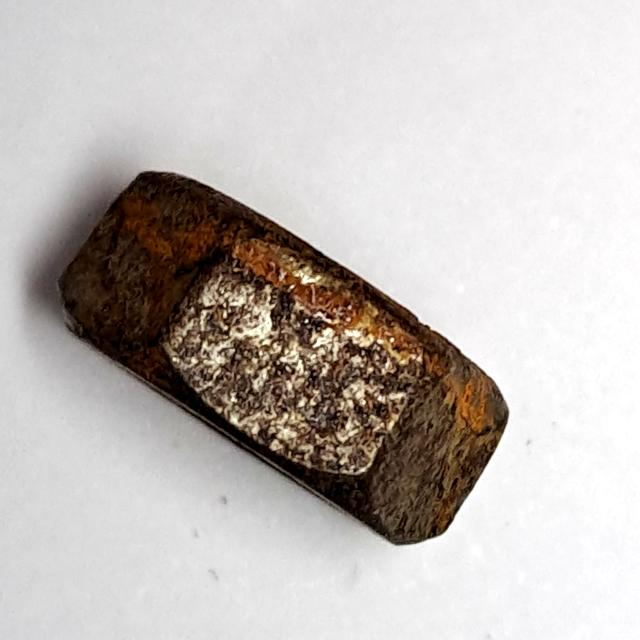Side_Rust: (47, 154, 521, 558)
